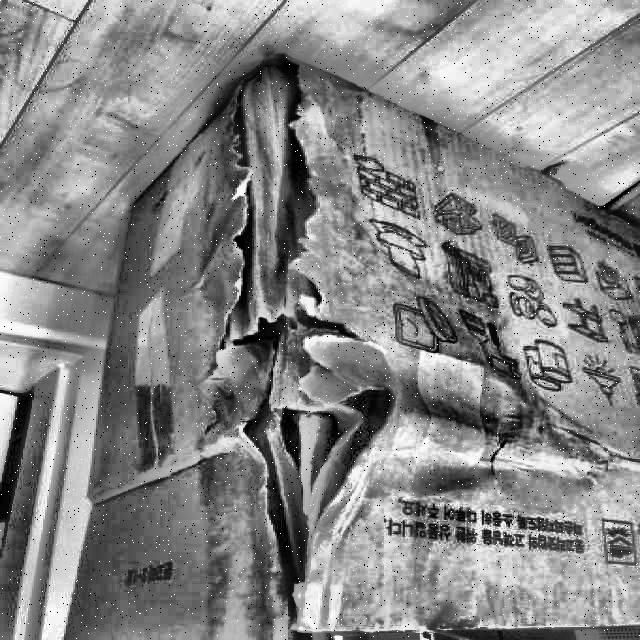box: (58, 38, 640, 640)
hole: (223, 68, 379, 462)
